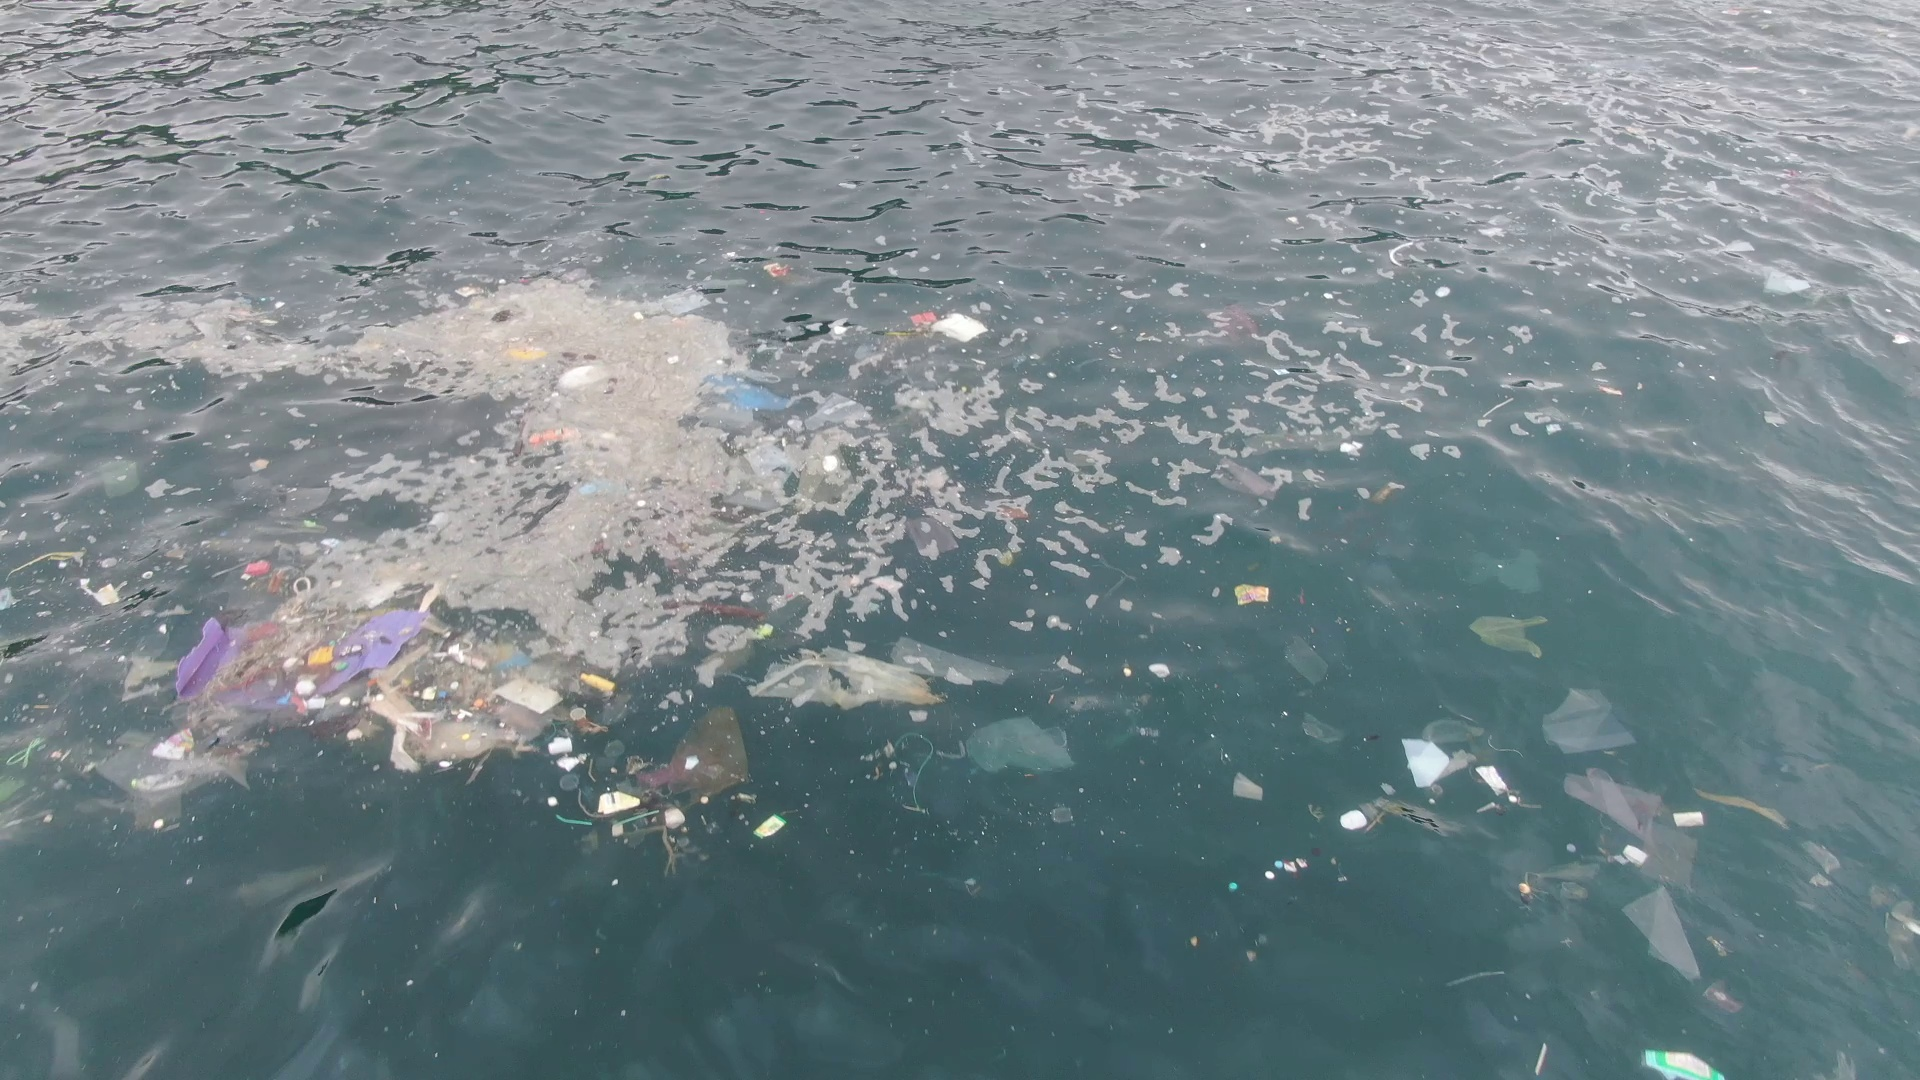garbage: (178, 554, 1014, 843), (1543, 684, 1705, 994), (1396, 705, 1534, 814), (971, 713, 1073, 777), (1338, 796, 1452, 843), (1698, 781, 1789, 835), (895, 305, 992, 353), (705, 367, 791, 417), (1476, 613, 1549, 659), (1228, 860, 1312, 895), (1648, 1048, 1731, 1080), (1, 742, 44, 799), (500, 338, 546, 367), (529, 427, 582, 448), (1234, 583, 1271, 607), (760, 260, 793, 281)
